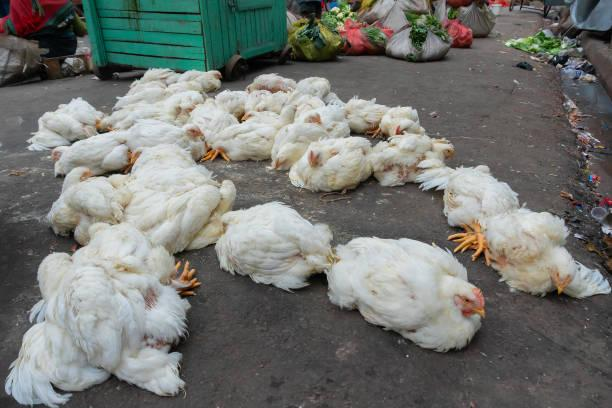AbNormal: (14, 224, 201, 404), (334, 236, 489, 352), (52, 160, 237, 250), (453, 206, 612, 302), (216, 201, 353, 289), (362, 124, 462, 189), (429, 166, 542, 219), (278, 134, 374, 193), (43, 130, 194, 164)
